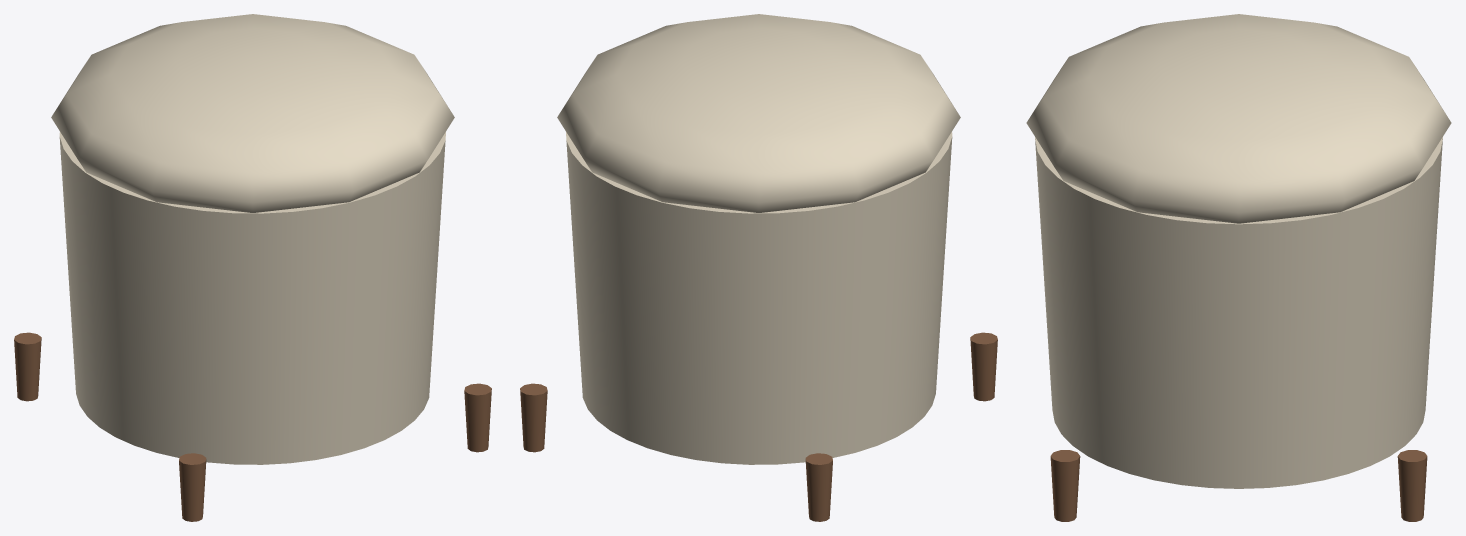
File: studio-ottoman-boucle.glb
3 views of the same model, side by side, from view 1: azimuth 30°, elevation 25°; view 2: azimuth 150°, elevation 25°; view 3: azimuth 270°, elevation 25° (orthographic). The views are drawn at different scales.
Visible parts, largest first — view 1: part (×2); view 2: part (×2); view 3: part (×2).
Boxes of the visible parts, <box> form: part (×2): <box>14,14,491,521</box>; part (×2): <box>520,14,997,521</box>; part (×2): <box>1026,14,1451,521</box>.
Bounding box in the file's own units: 1 × 1 × 1.
